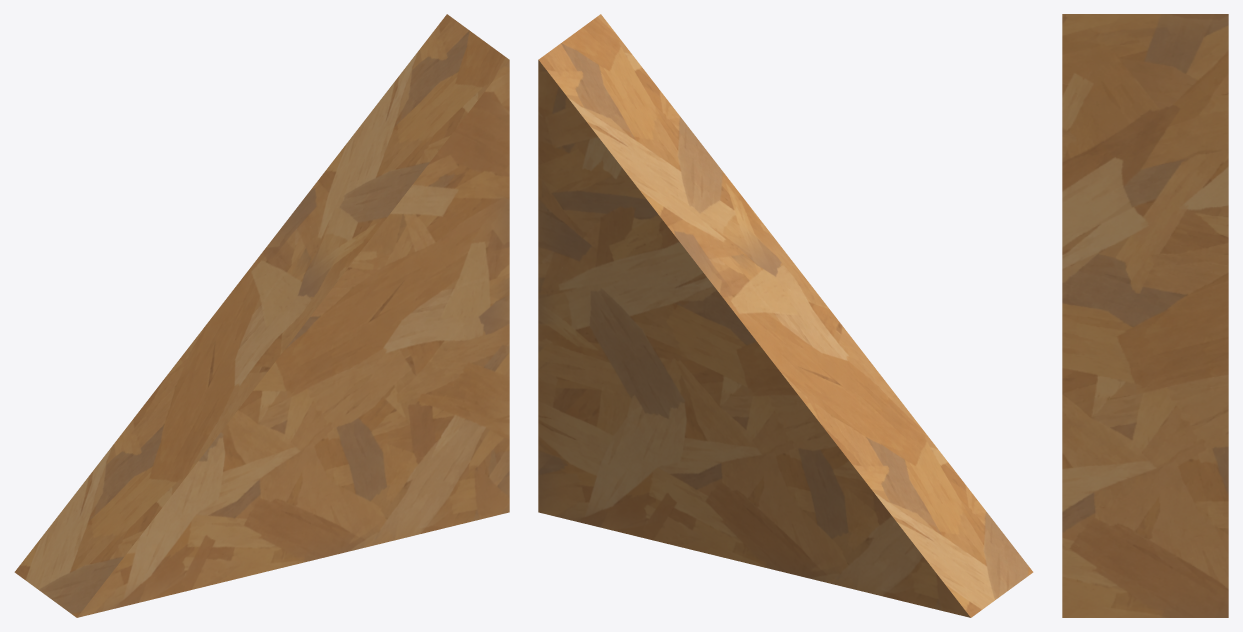
Rendered from Gable45.fbx.
The picture shows the model from 3 angles, left to right: view 1: azimuth 30°, elevation 25°; view 2: azimuth 150°, elevation 25°; view 3: azimuth 270°, elevation 25°; orthographic projection. The views are drawn at different scales.
Visible parts, largest first — view 1: mdl_block_gable_45; view 2: mdl_block_gable_45; view 3: mdl_block_gable_45.
Boxes of the visible parts, x1,y1,x2,y2 form: mdl_block_gable_45: (14,14,509,617); mdl_block_gable_45: (538,14,1033,617); mdl_block_gable_45: (1062,14,1228,617).
Size of the model in its own units: 1 by 1 by 0.25.
